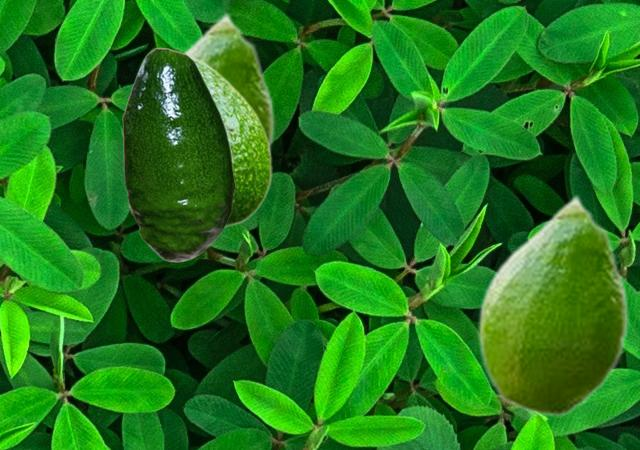avocado: (477, 193, 628, 416), (122, 47, 234, 261), (179, 11, 274, 160), (192, 56, 271, 229)
